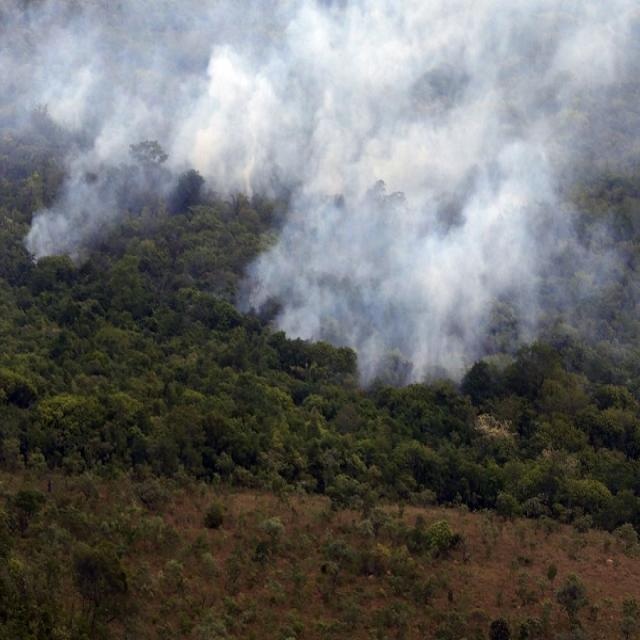Smoke: (295, 13, 561, 332), (61, 22, 272, 162)
